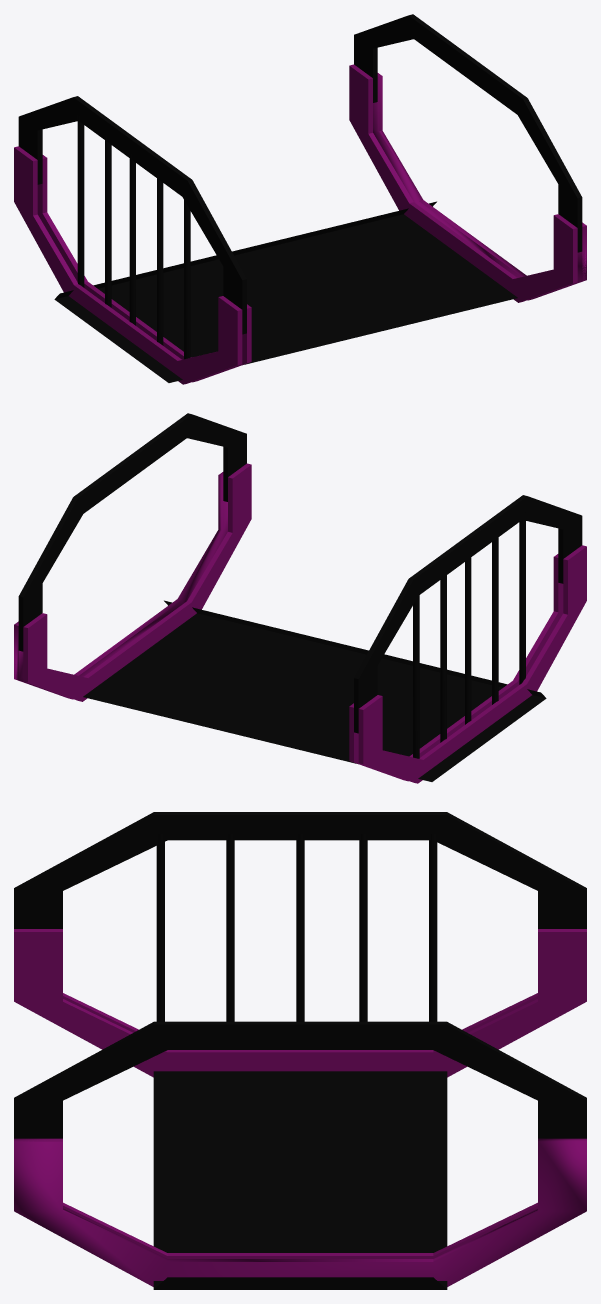
Rendered from starter.glb.
3 renders of one model, top to bottom at view 1: azimuth 30°, elevation 25°; view 2: azimuth 150°, elevation 25°; view 3: azimuth 270°, elevation 25°, orthographic. The views are drawn at different scales.
Visible parts, largest first — view 1: Platform, Delimiter1, Delimiter3, TopBow1.001, TopBow1, Delimiter2, Delimiter4, Cylinder.004, Cylinder, Cylinder.001, Cylinder.002, Cylinder.003; view 2: Platform, Delimiter1, Delimiter3, TopBow1.001, TopBow1, Delimiter2, Delimiter4, Cylinder, Cylinder.001, Cylinder.002, Cylinder.003, Cylinder.004; view 3: Platform, Delimiter2, TopBow1.001, TopBow1, Delimiter4, Delimiter1, Cylinder, Cylinder.001, Cylinder.002, Cylinder.004, Cylinder.003, Delimiter3.
Boxes of the visible parts, box(x1,y1,x2,y2) form: Platform: box(54, 201, 517, 382); Delimiter1: box(349, 64, 577, 302); Delimiter3: box(14, 146, 242, 384); TopBow1.001: box(354, 14, 582, 252); TopBow1: box(18, 96, 246, 334); Delimiter2: box(373, 73, 586, 300); Delimiter4: box(37, 155, 251, 382); Cylinder.004: box(77, 115, 84, 287); Cylinder: box(129, 153, 135, 325); Cylinder.001: box(157, 173, 163, 345); Cylinder.002: box(105, 135, 111, 307); Cylinder.003: box(184, 193, 190, 359); Platform: box(83, 600, 546, 781); Delimiter1: box(23, 463, 251, 701); Delimiter3: box(358, 545, 586, 783); TopBow1.001: box(18, 413, 246, 651); TopBow1: box(354, 495, 582, 733); Delimiter2: box(14, 472, 227, 699); Delimiter4: box(349, 554, 563, 781); Cylinder: box(465, 552, 471, 724); Cylinder.001: box(492, 532, 498, 704); Cylinder.002: box(440, 570, 446, 742); Cylinder.003: box(519, 512, 525, 684); Cylinder.004: box(413, 590, 419, 758); Platform: box(153, 1071, 447, 1289); Delimiter2: box(14, 1138, 586, 1286); TopBow1.001: box(14, 1021, 586, 1138); TopBow1: box(14, 812, 586, 928); Delimiter4: box(14, 929, 586, 1077); Delimiter1: box(63, 1202, 537, 1258); Cylinder: box(296, 834, 304, 1021); Cylinder.001: box(226, 834, 234, 1021); Cylinder.002: box(359, 834, 367, 1021); Cylinder.004: box(429, 834, 437, 1021); Cylinder.003: box(156, 834, 164, 1021); Delimiter3: box(63, 993, 537, 1032).
Size of the model in its own units: 8 by 4.1 by 8.2.
